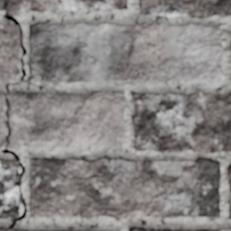brick: (30, 157, 220, 218), (29, 23, 222, 83), (133, 93, 230, 152), (140, 0, 230, 17), (0, 159, 19, 218), (0, 25, 19, 81), (130, 227, 147, 230), (196, 229, 230, 230), (229, 166, 230, 186)
broken_brick: (9, 91, 125, 150), (0, 0, 128, 15), (0, 227, 99, 230), (0, 91, 4, 148)
crack: (0, 2, 34, 228), (57, 0, 61, 4)
